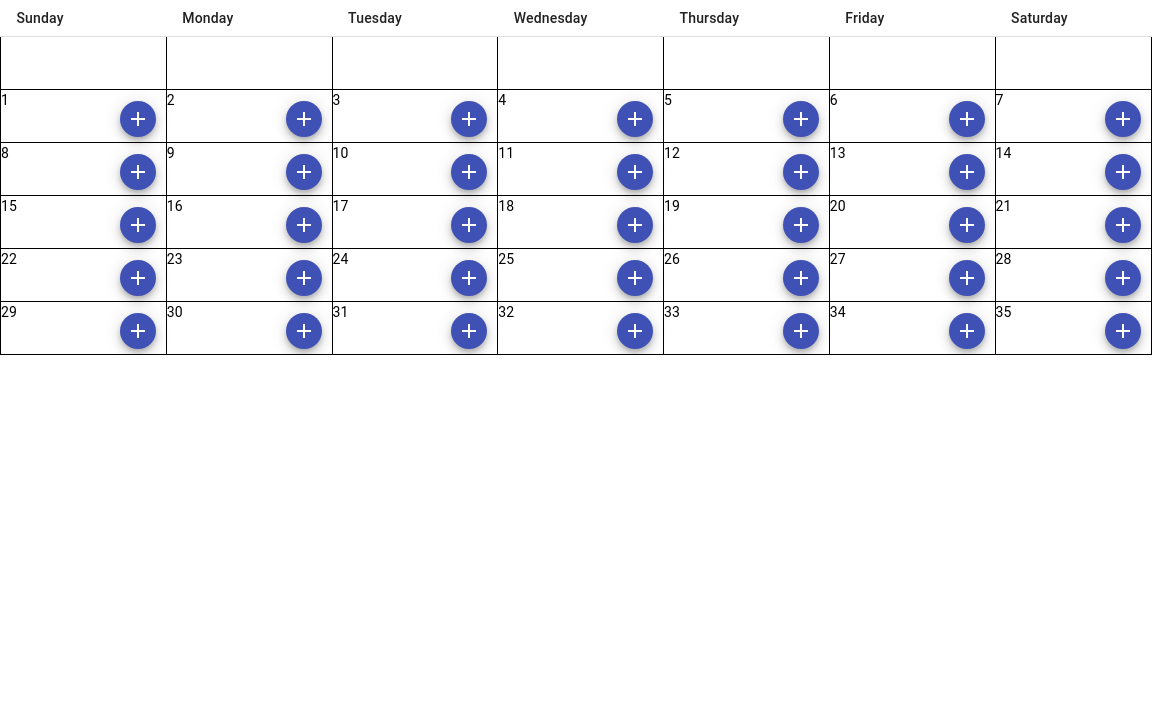
Test case: render CurrentMonth Component
Click the 1st button named "add": (138, 119) [120,101,156,137]
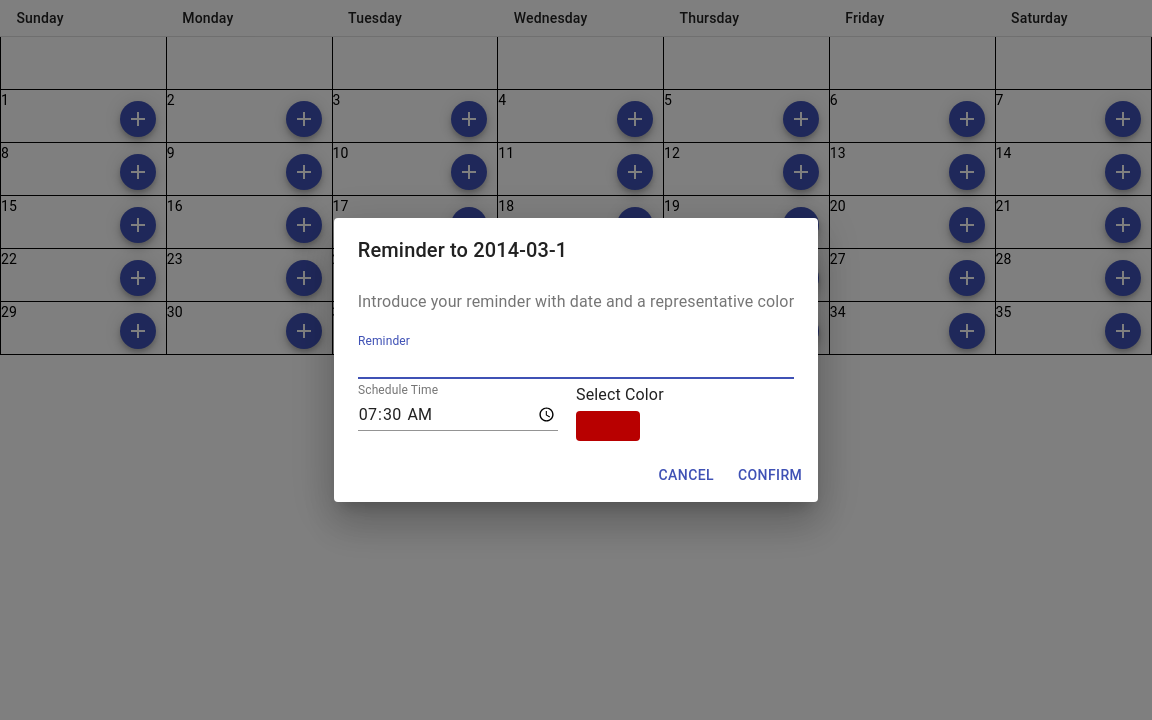
Expected: the field with test id "dialogTextField" is shown
In the field with test id "dialogTextField": (576, 365) [358,350,794,379], type "Text with more than 30 characters"
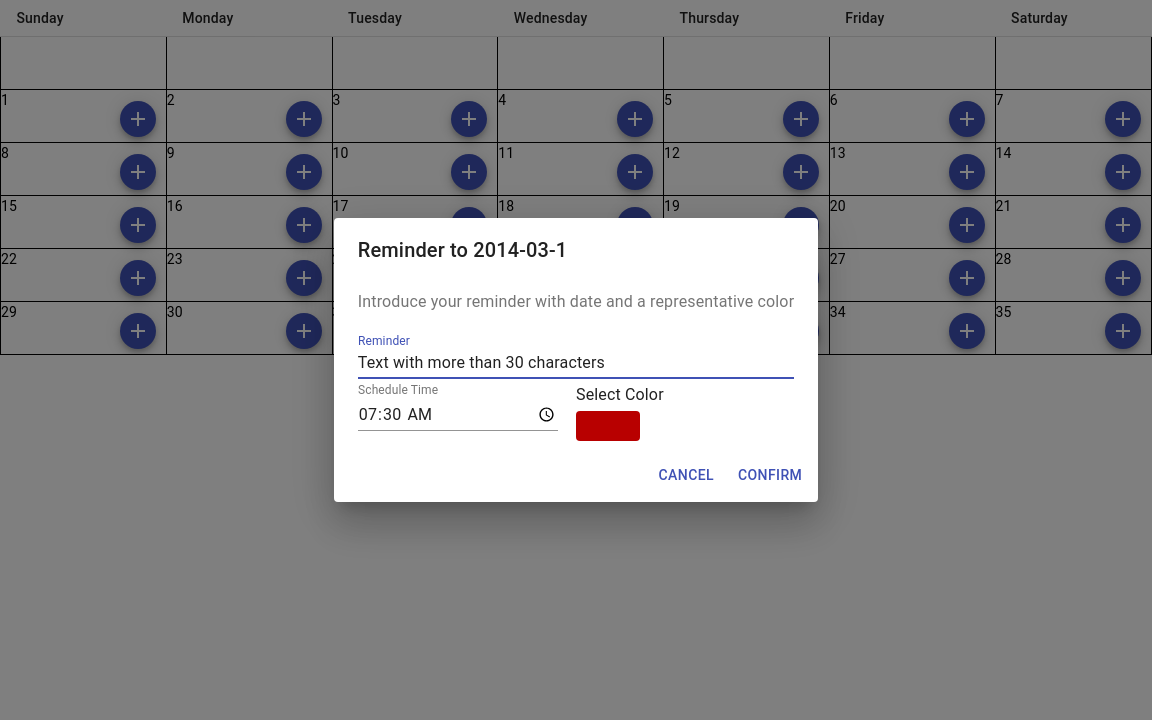
Expected: the button with test id "confirmButton" is shown
Click the button with test id "confirmButton": (770, 476) [730,457,810,494]
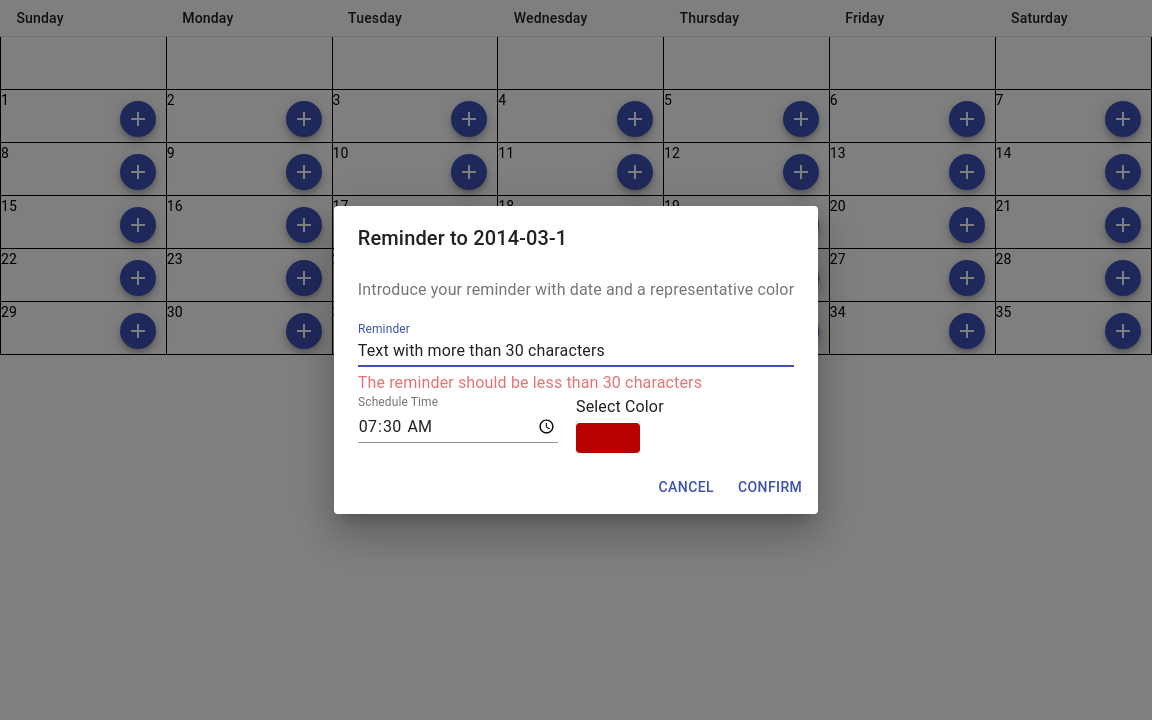
Expected: the text "The reminder should be less than 30 characters" is shown, [358,373,702,392]
Replace the text in the field with test id "dialogTextField" with "Short Text": (576, 353) [358,338,794,367]
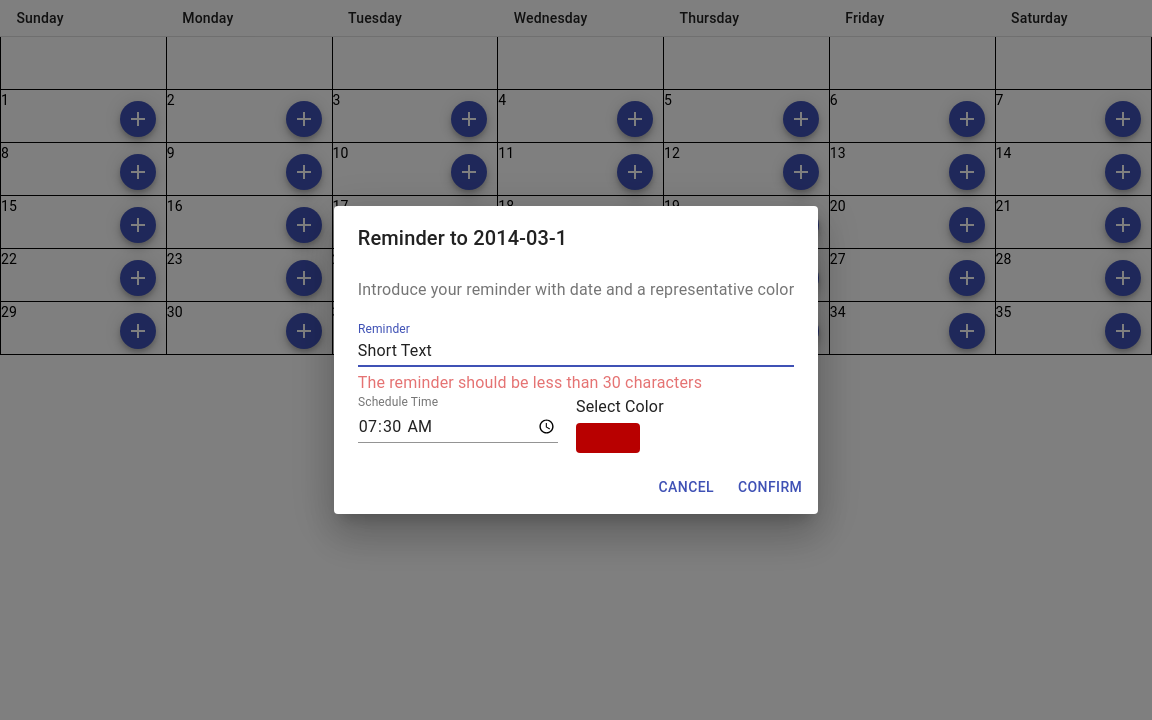
Click the button with test id "confirmButton": (770, 488) [730,469,810,506]
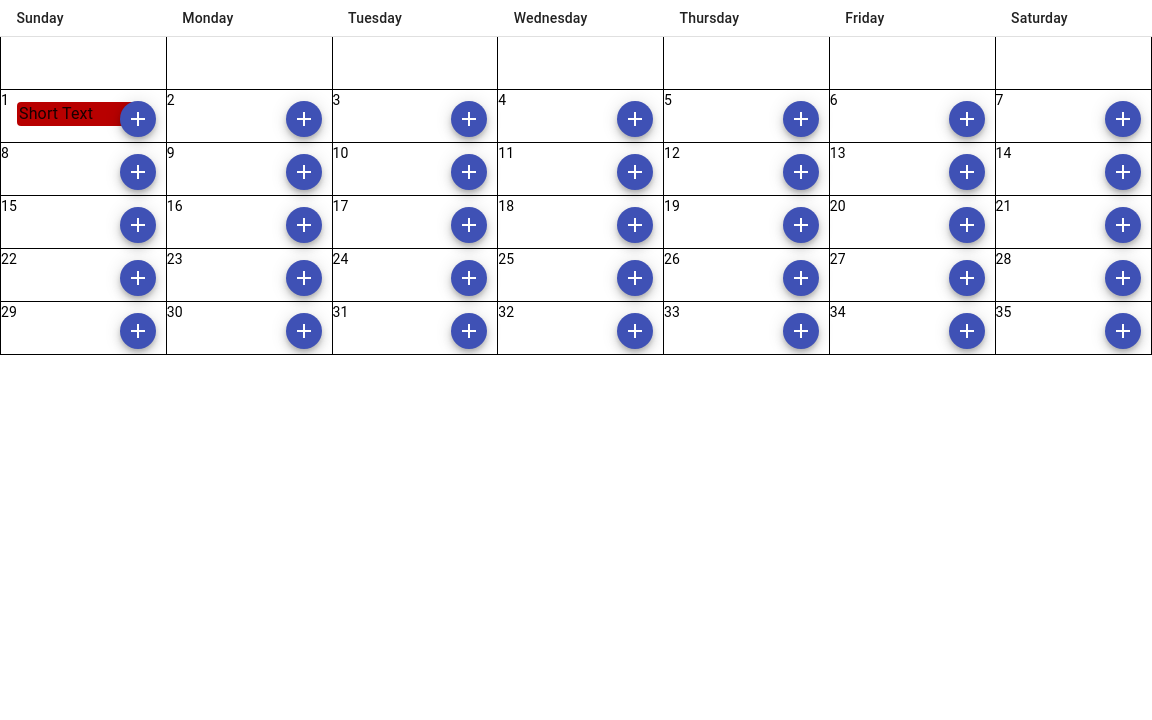
Expected: the field with test id "dialogTextField" is gone
Expected: the element with test id "reminderRow" is shown, [17,102,142,126]
Expected: the element with test id "reminderRow" reads "Short Text", [19,104,93,123]
